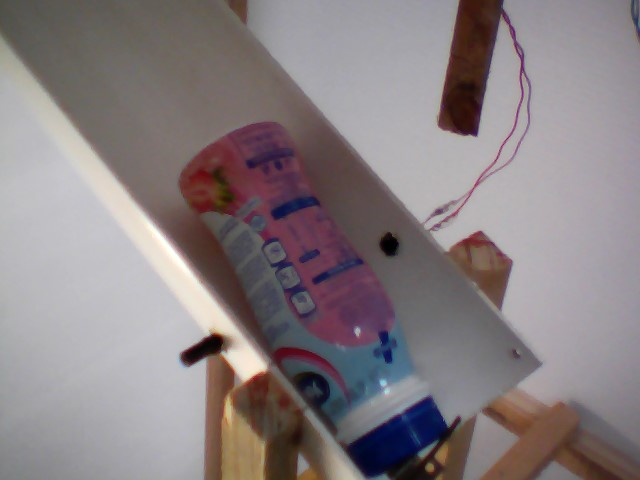plastico: (167, 116, 457, 480)
